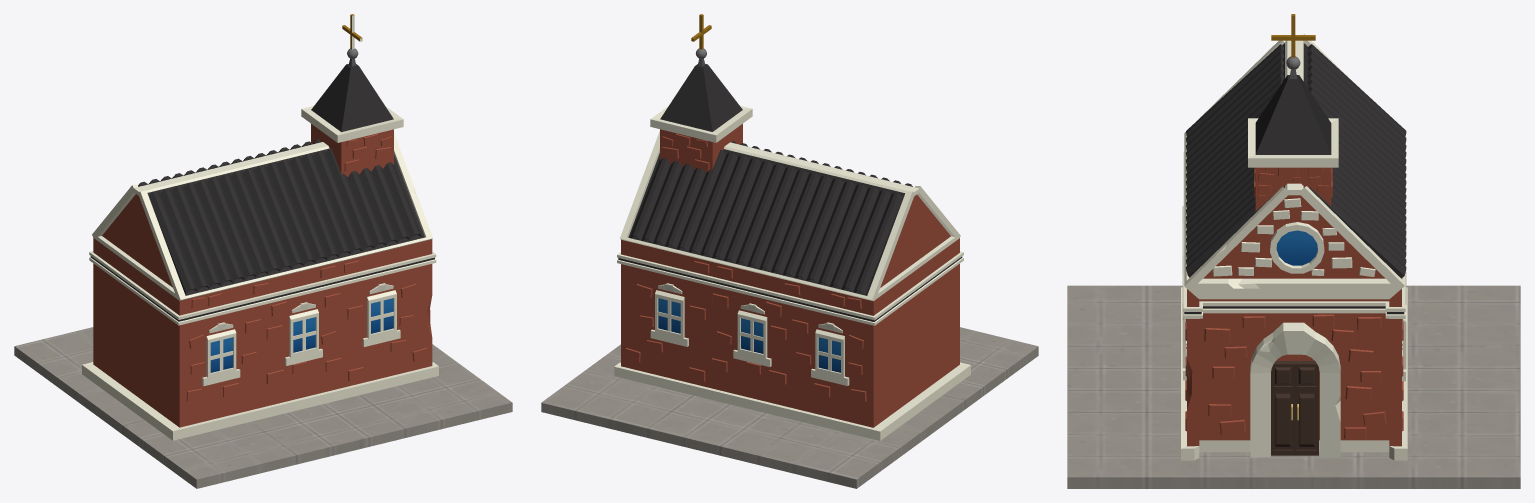
Rendered from Church_01.fbx.
3 renders of one model, left to right at view 1: azimuth 30°, elevation 25°; view 2: azimuth 150°, elevation 25°; view 3: azimuth 270°, elevation 25°, orthographic. The views are drawn at different scales.
Visible parts, largest first — view 1: Church_01; view 2: Church_01; view 3: Church_01.
Part boxes in pixels (box(x1,y1,x2,y2)): Church_01: box(14, 14, 512, 488); Church_01: box(541, 14, 1038, 488); Church_01: box(1067, 14, 1520, 488).
Size of the model in its own units: 1800 by 1892 by 1800.
